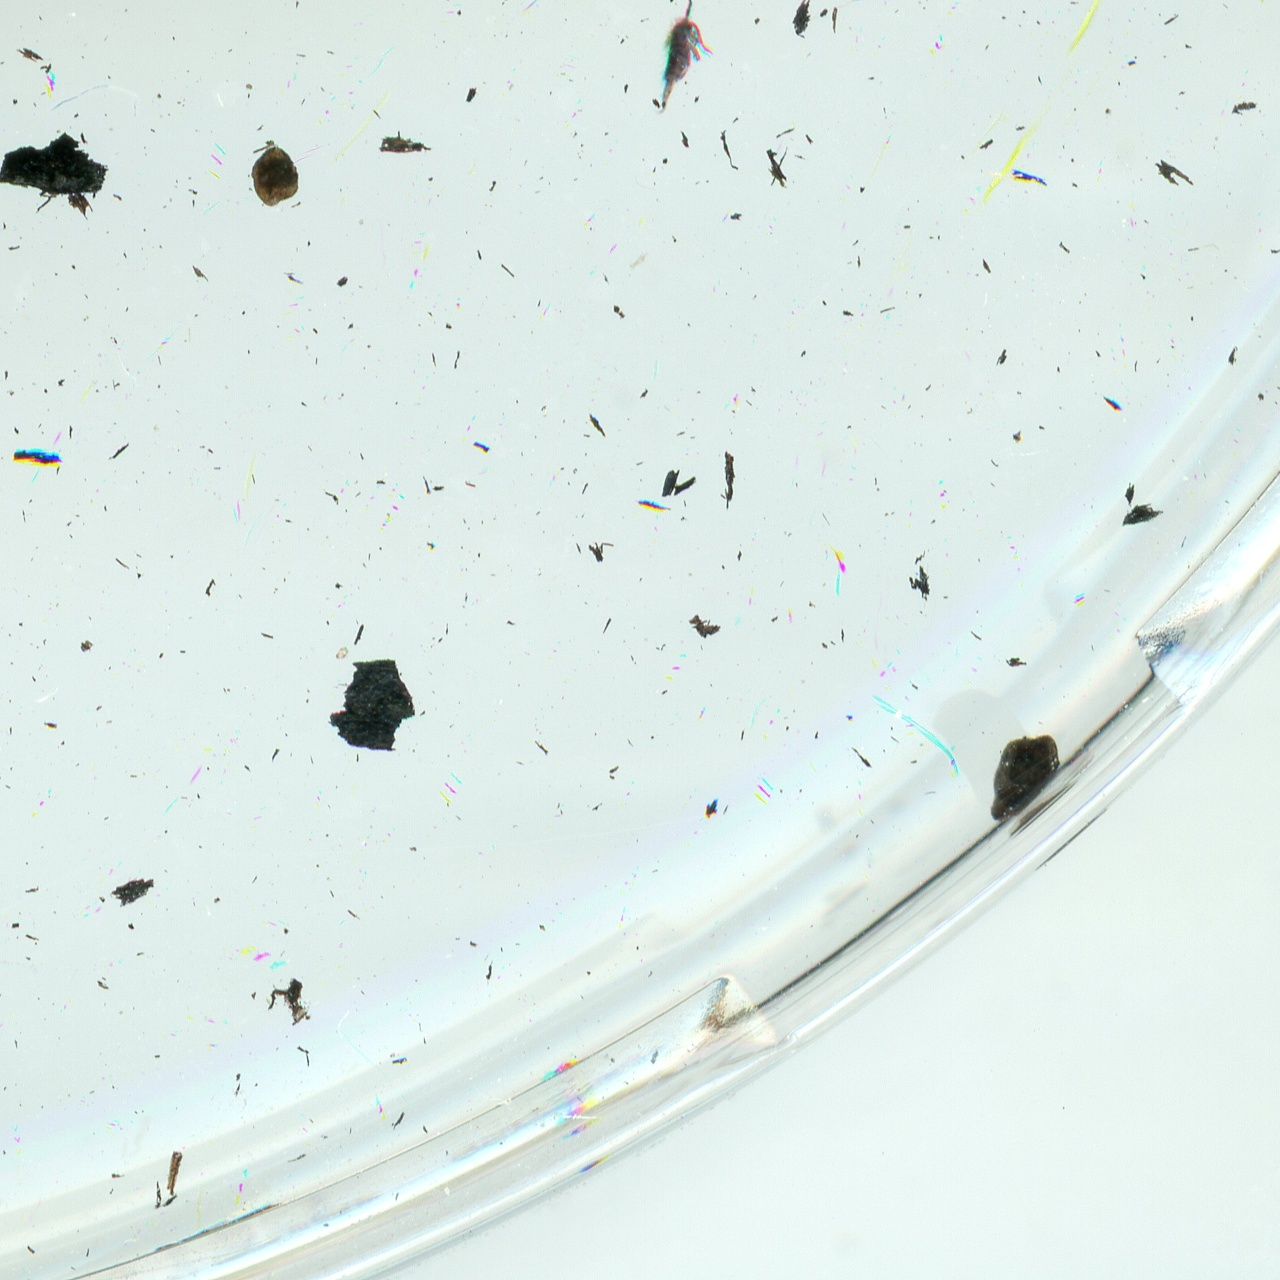arthropod: (647, 0, 727, 123)
